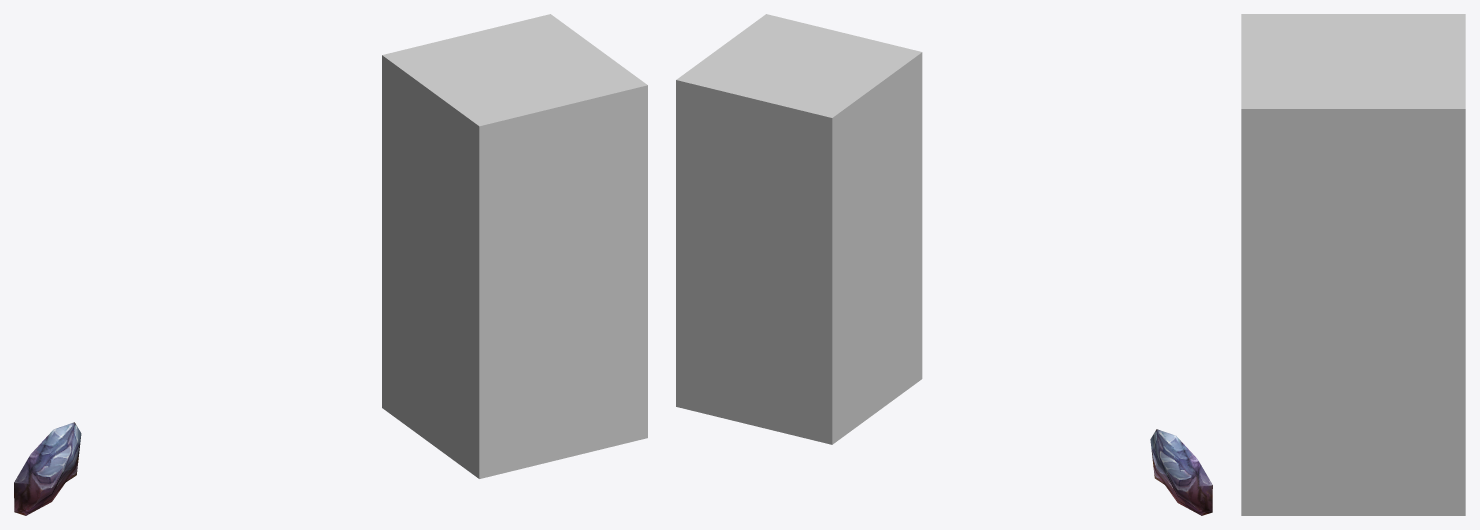
File: tiekuangshi.FBX
3 views of the same model, side by side, from view 1: azimuth 30°, elevation 25°; view 2: azimuth 150°, elevation 25°; view 3: azimuth 270°, elevation 25° (orthographic). The views are drawn at different scales.
Parts seen in each view (by area): view 1: Box001, tiekuangshi; view 2: Box001, tiekuangshi; view 3: Box001.
Boxes of the visible parts, x1,y1,x2,y2 form: Box001: [382, 14, 647, 478]; tiekuangshi: [14, 422, 81, 515]; Box001: [676, 14, 922, 444]; tiekuangshi: [1150, 429, 1212, 515]; Box001: [1241, 14, 1465, 515].
Size of the model in its own units: 331 by 200 by 100.
